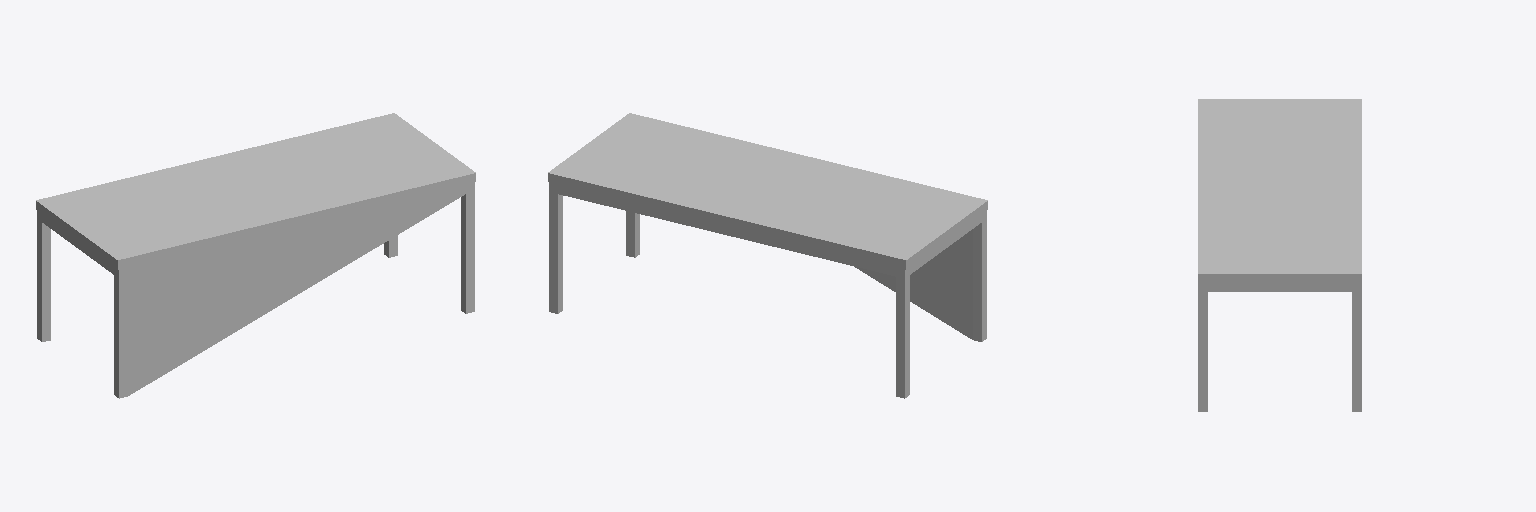
Rendered from long_table.obj.
3 views of the same model, side by side, from view 1: azimuth 30°, elevation 25°; view 2: azimuth 150°, elevation 25°; view 3: azimuth 270°, elevation 25° (orthographic).
Visible parts, largest first — view 1: Cube, Cube.002; view 2: Cube, Cube.002; view 3: Cube, Cube.002.
Part boxes in pixels (x1,y1,x2,y2): Cube: (36,113,475,269); Cube.002: (37,183,474,398); Cube: (548,113,987,269); Cube.002: (549,183,986,398); Cube: (1198,99,1361,283); Cube.002: (1198,284,1361,411).
Bounding box in the file's own units: 2 × 0.74 × 0.793.